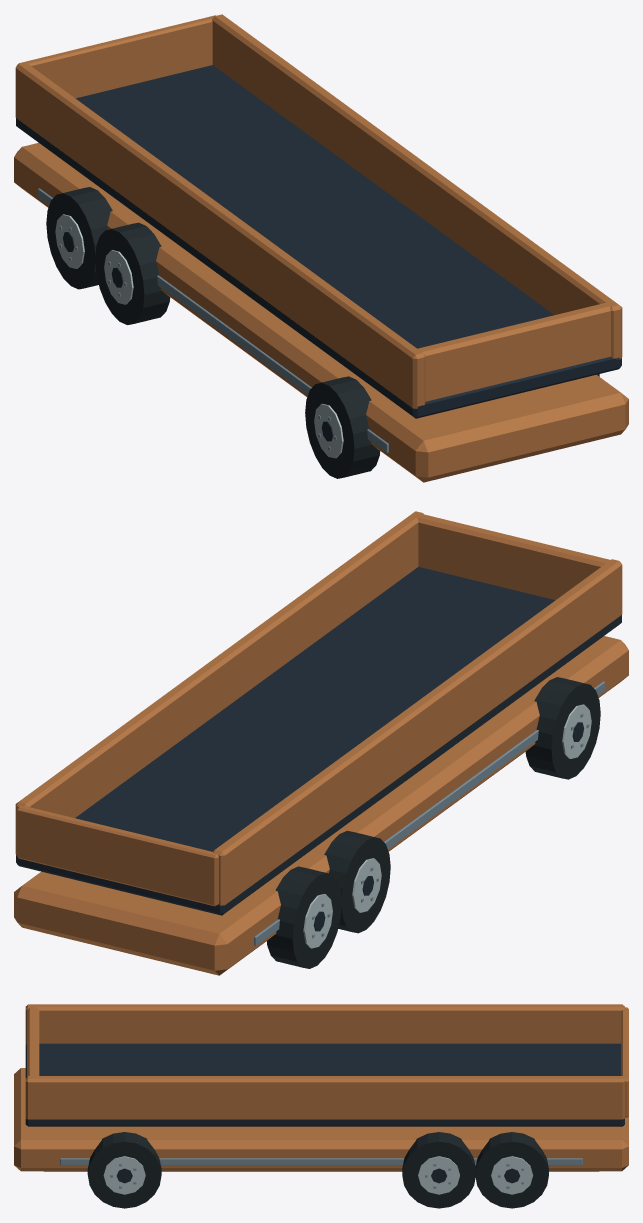
File: road-trailer.lod0.glb
3 renders of one model, top to bottom at view 1: azimuth 30°, elevation 25°; view 2: azimuth 150°, elevation 25°; view 3: azimuth 270°, elevation 25°, orthographic. The views are drawn at different scales.
Visible parts, largest first — view 1: road-trailer__bed, road-trailer__body, road-trailer__tailgate, road-trailer__wheel_steer_0_l, road-trailer__wheel_steer_2_l, road-trailer__wheel_steer_1_l; view 2: road-trailer__bed, road-trailer__body, road-trailer__tailgate, road-trailer__wheel_steer_1_l, road-trailer__wheel_steer_0_l, road-trailer__wheel_steer_2_l; view 3: road-trailer__bed, road-trailer__body, road-trailer__wheel_steer_0_r, road-trailer__wheel_steer_1_r, road-trailer__wheel_steer_2_r, road-trailer__tailgate.
Boxes of the visible parts, x1,y1,x2,y2 form: road-trailer__bed: (15, 14, 622, 418); road-trailer__body: (14, 142, 628, 482); road-trailer__tailgate: (17, 15, 215, 98); road-trailer__wheel_steer_0_l: (305, 376, 380, 478); road-trailer__wheel_steer_2_l: (95, 222, 170, 324); road-trailer__wheel_steer_1_l: (46, 187, 112, 289); road-trailer__bed: (15, 511, 622, 915); road-trailer__body: (14, 636, 628, 975); road-trailer__tailgate: (17, 806, 218, 906); road-trailer__wheel_steer_1_l: (267, 866, 341, 968); road-trailer__wheel_steer_0_l: (525, 677, 600, 779); road-trailer__wheel_steer_2_l: (324, 830, 390, 933); road-trailer__bed: (25, 1004, 624, 1126); road-trailer__body: (14, 1068, 628, 1171); road-trailer__wheel_steer_0_r: (87, 1132, 161, 1208); road-trailer__wheel_steer_1_r: (475, 1132, 548, 1208); road-trailer__wheel_steer_2_r: (402, 1132, 475, 1208); road-trailer__tailgate: (621, 1007, 628, 1117).
Bounding box in the file's own units: 2.85 × 1.75 × 8.
